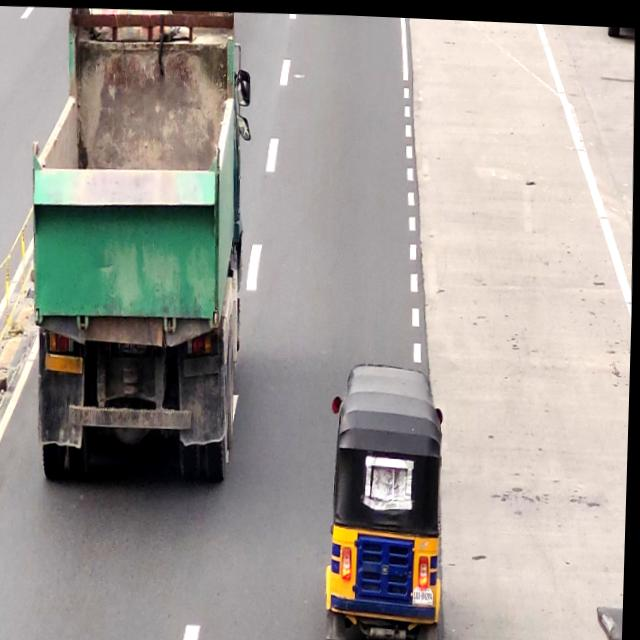Truck: (22, 2, 253, 482)
